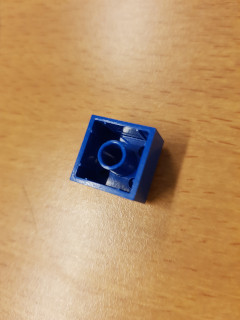2x2 blue: (66, 112, 168, 206)
